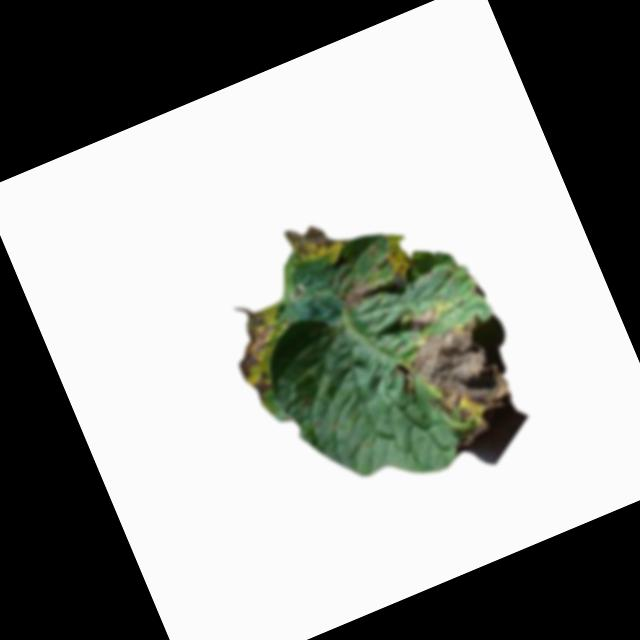Early_blight: (398, 313, 525, 457), (221, 299, 315, 400), (280, 211, 344, 273), (338, 275, 377, 314), (382, 238, 417, 280), (403, 305, 443, 335)
